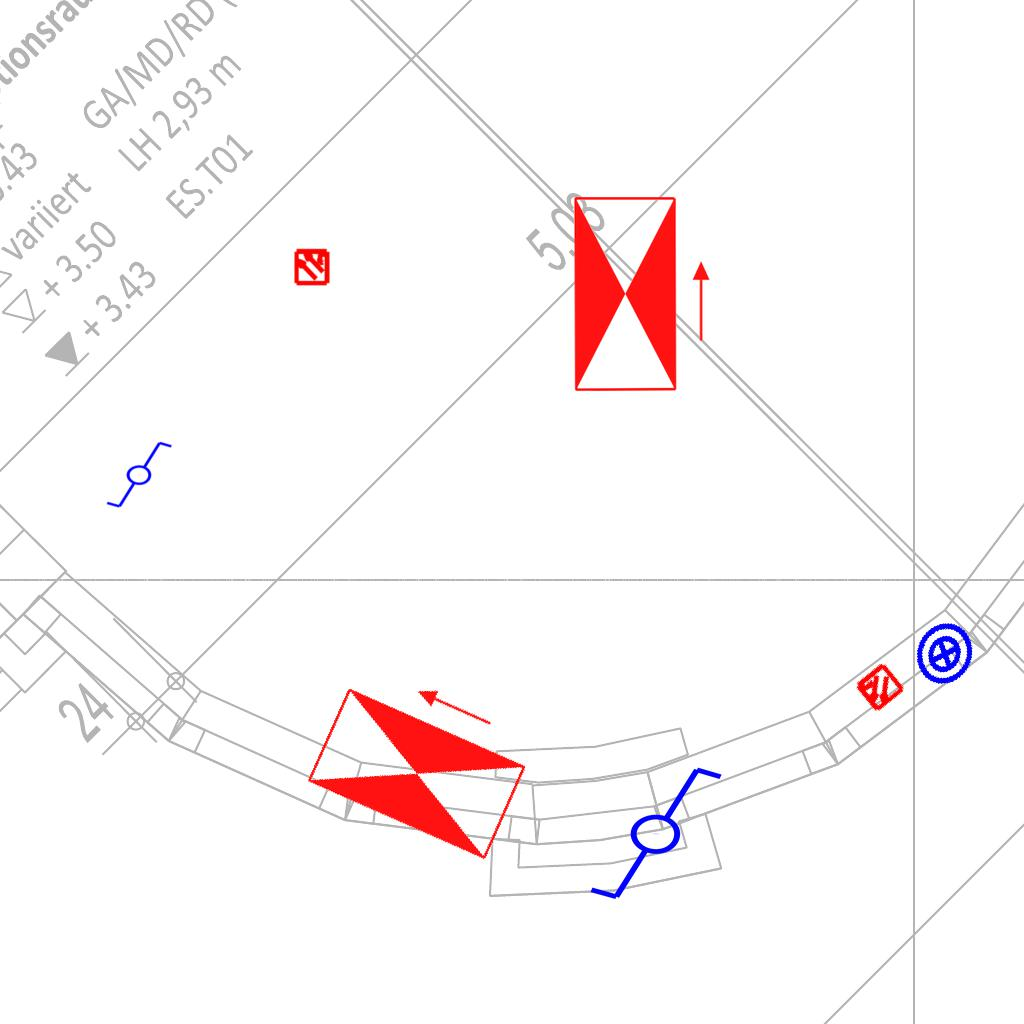Fluchtwegpiktogramm: (298, 649, 549, 869), (568, 190, 715, 398)
OT_Multisensormelder_(Kombination_RMO_WMD): (839, 648, 919, 728), (284, 238, 340, 294)
Taster_beleuchtet: (902, 611, 988, 697)
Wechselschalter: (569, 760, 726, 904), (96, 438, 174, 510)
